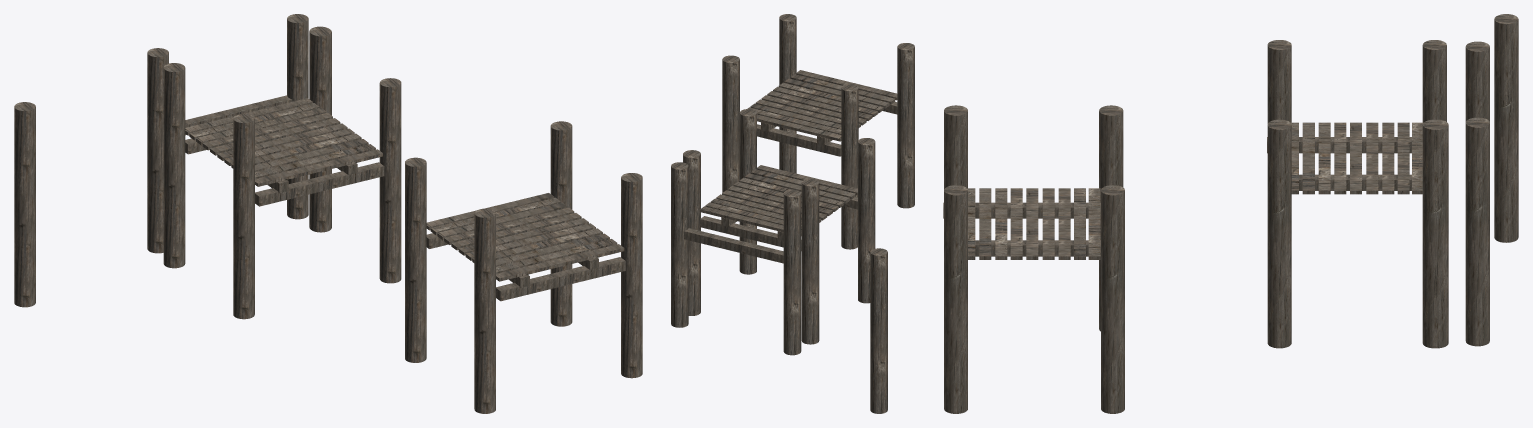
The model's file is palo2.fbx.
The picture shows the model from 3 angles, left to right: view 1: azimuth 30°, elevation 25°; view 2: azimuth 150°, elevation 25°; view 3: azimuth 270°, elevation 25°; orthographic projection. The views are drawn at different scales.
Visible parts, largest first — view 1: marco.002, marco, piso bien, Cylinder.004, Cylinder.003, Cylinder.001, Cylinder.002, marco.001, Cube, Cube.006; view 2: marco.002, marco, piso bien, Cylinder.003, Cylinder.004, Cylinder.002, marco.001, Cube, Cylinder.001, Cube.006; view 3: marco.002, marco, piso bien, Cylinder.002, Cylinder.004, Cylinder.001, Cylinder.003, Cube.006.
Boxes of the visible parts, <box> form: marco.002: <box>405,121,642,413</box>; marco: <box>163,26,401,319</box>; piso bien: <box>185,101,382,193</box>; Cylinder.004: <box>14,102,35,307</box>; Cylinder.003: <box>147,48,168,253</box>; Cylinder.001: <box>310,27,331,232</box>; Cylinder.002: <box>287,14,308,219</box>; marco.001: <box>185,95,292,135</box>; Cube: <box>185,98,312,135</box>; Cube.006: <box>196,107,325,145</box>; marco.002: <box>722,14,914,249</box>; marco: <box>683,109,875,344</box>; piso bien: <box>700,165,857,240</box>; Cylinder.003: <box>783,189,801,355</box>; Cylinder.004: <box>870,248,887,413</box>; Cylinder.002: <box>671,162,688,327</box>; marco.001: <box>684,228,783,263</box>; Cube: <box>700,206,801,235</box>; Cylinder.001: <box>683,150,700,313</box>; Cube.006: <box>710,198,801,224</box>; marco.002: <box>943,105,1124,413</box>; marco: <box>1267,40,1448,348</box>; piso bien: <box>1267,122,1423,194</box>; Cylinder.002: <box>1465,117,1489,346</box>; Cylinder.004: <box>1494,14,1518,242</box>; Cylinder.001: <box>1422,119,1446,348</box>; Cylinder.003: <box>1465,41,1489,121</box>; Cube.006: <box>1397,122,1409,190</box>.
Bounding box in the file's own units: 1212 × 704 × 1430.
Materials: 3 (3 with a texture image).
